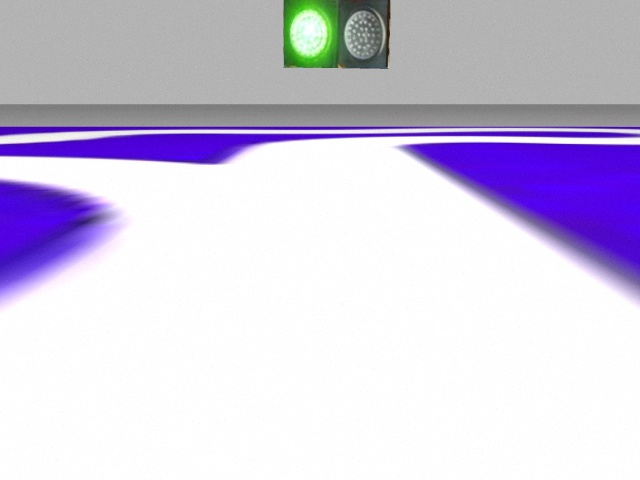green: (283, 2, 338, 67)
